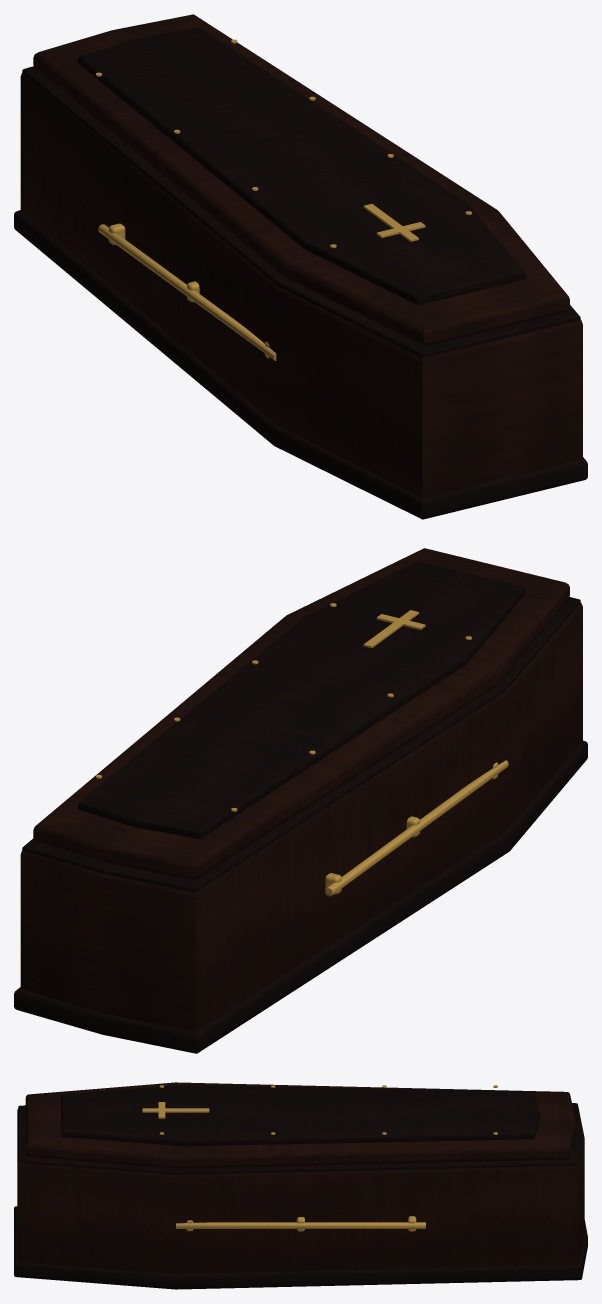
File: coffin.glb
3 views of the same model, one above another, from view 1: azimuth 30°, elevation 25°; view 2: azimuth 150°, elevation 25°; view 3: azimuth 270°, elevation 25° (orthographic). The views are drawn at different scales.
Visible parts, largest first — view 1: box, lid top, lid, base trim, mid trim, handle bar; view 2: box, lid top, lid, base trim, mid trim, handle bar; view 3: box, lid top, lid, base trim, mid trim, handle bar, cross.
Part boxes in pixels (bbox=[...]): box: bbox=[20, 73, 582, 497]; lid top: bbox=[77, 27, 525, 305]; lid: bbox=[33, 14, 569, 346]; base trim: bbox=[14, 210, 587, 519]; mid trim: bbox=[22, 66, 580, 358]; handle bar: bbox=[98, 224, 276, 360]; box: bbox=[20, 603, 582, 1031]; lid top: bbox=[77, 561, 525, 838]; lid: bbox=[33, 548, 569, 880]; base trim: bbox=[14, 740, 587, 1053]; mid trim: bbox=[22, 597, 580, 892]; handle bar: bbox=[325, 760, 508, 896]; box: bbox=[17, 1108, 584, 1273]; lid top: bbox=[61, 1084, 540, 1146]; lid: bbox=[25, 1082, 576, 1168]; base trim: bbox=[14, 1206, 587, 1289]; mid trim: bbox=[18, 1103, 583, 1174]; handle bar: bbox=[176, 1222, 425, 1228]; cross: bbox=[142, 1108, 209, 1112].
Bounding box in the file's own units: 0.7041 × 0.554 × 2.06.
Materials: 3 (2 with a texture image).
